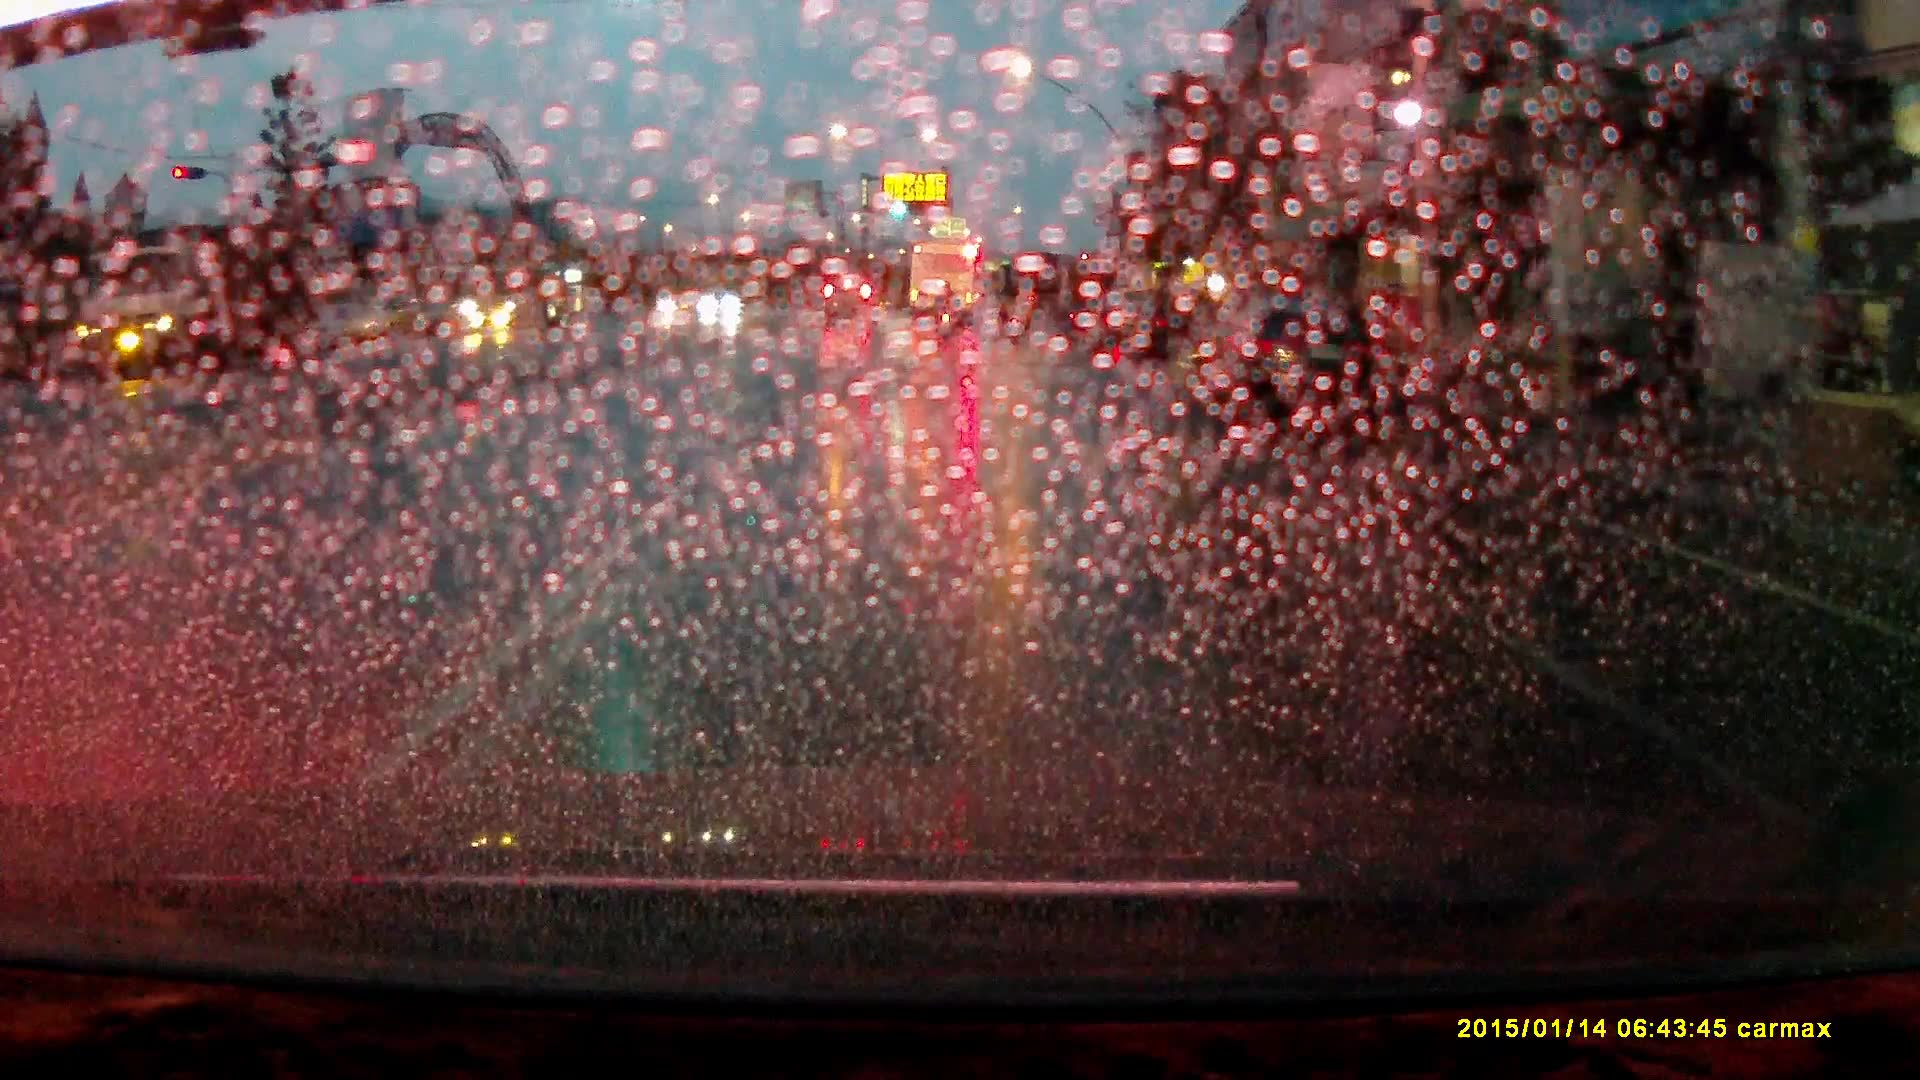rider: (935, 289, 962, 351)
vehicle: (67, 248, 279, 383), (1208, 311, 1405, 432), (463, 264, 571, 340), (910, 240, 979, 330), (1087, 305, 1174, 362), (822, 286, 882, 335), (697, 293, 744, 323)
